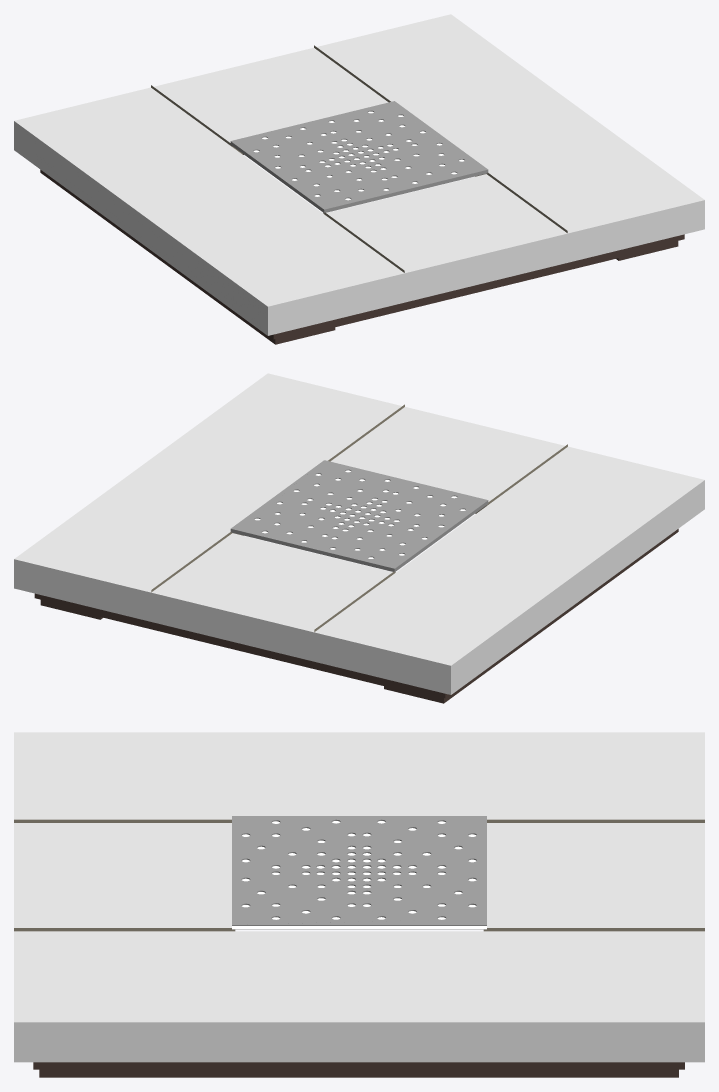
The picture shows the model from 3 angles, top to bottom: view 1: azimuth 30°, elevation 25°; view 2: azimuth 150°, elevation 25°; view 3: azimuth 270°, elevation 25°; orthographic projection. The views are drawn at different scales.
Visible parts, largest first — view 1: H4_UpImpluvium, MainModel:metal, MainModel:1, MainModel:0, MainModel:Unlit; view 2: H4_UpImpluvium, MainModel:metal, MainModel:1, MainModel:0, MainModel:Unlit; view 3: H4_UpImpluvium, MainModel:metal, MainModel:1, MainModel:0, MainModel:Unlit.
Boxes of the visible parts, x1,y1,x2,y2 form: H4_UpImpluvium: (14, 14, 704, 335); MainModel:metal: (230, 101, 488, 213); MainModel:1: (40, 154, 684, 344); MainModel:0: (151, 45, 567, 272); MainModel:Unlit: (253, 111, 464, 200); H4_UpImpluvium: (14, 373, 704, 694); MainModel:metal: (230, 460, 488, 572); MainModel:1: (34, 513, 678, 703); MainModel:0: (151, 404, 567, 631); MainModel:Unlit: (254, 470, 465, 558); H4_UpImpluvium: (14, 732, 704, 1062); MainModel:metal: (232, 816, 486, 929); MainModel:1: (33, 1062, 684, 1077); MainModel:0: (14, 819, 704, 931); MainModel:Unlit: (232, 821, 486, 929).
Bounding box in the file's own units: 1.67 × 0.1975 × 1.68.
